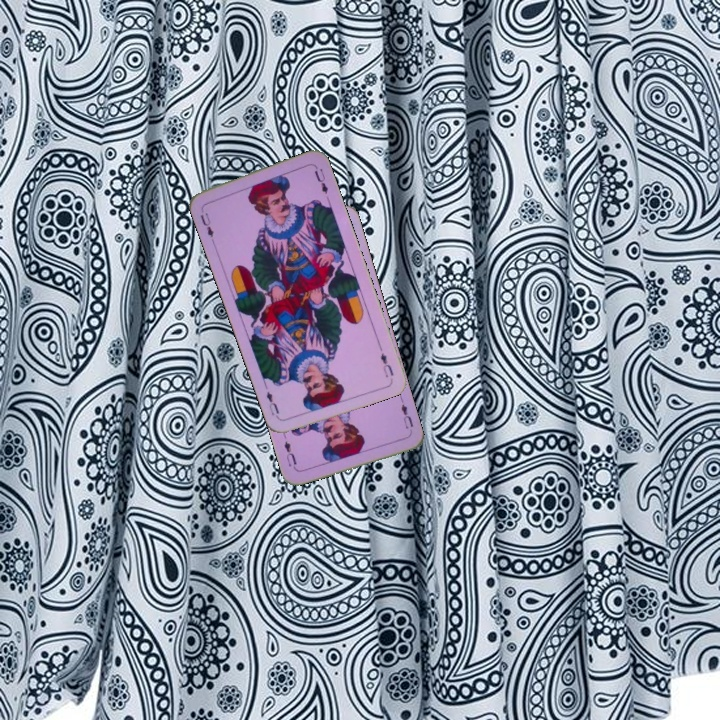EU: (196, 204, 216, 240), (397, 396, 416, 431), (376, 348, 396, 380)
